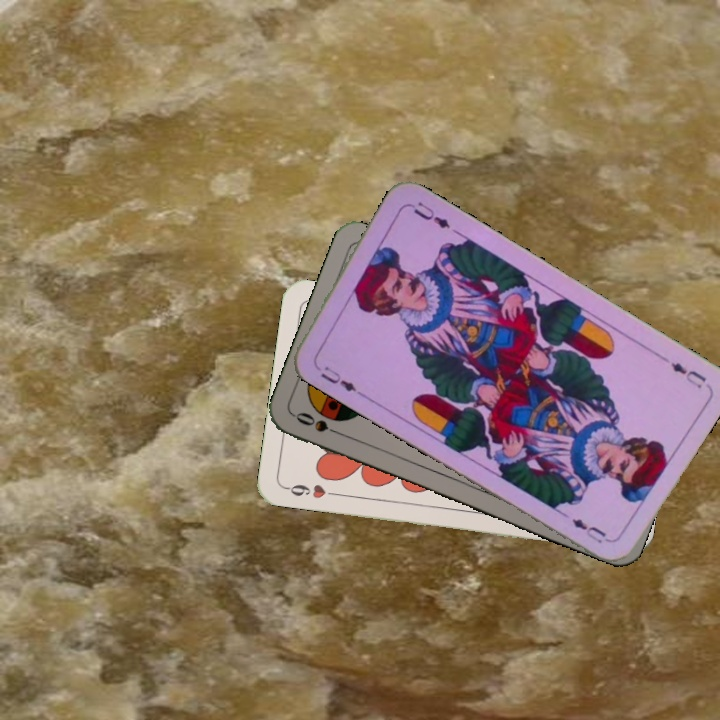EU: (310, 358, 364, 396), (666, 358, 709, 392)
H9: (281, 480, 340, 501)
SO: (291, 408, 348, 439)
